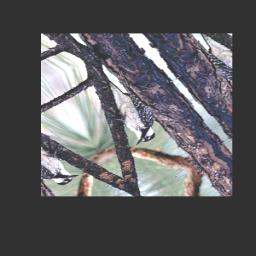Woodpecker: (88, 74, 169, 148)
